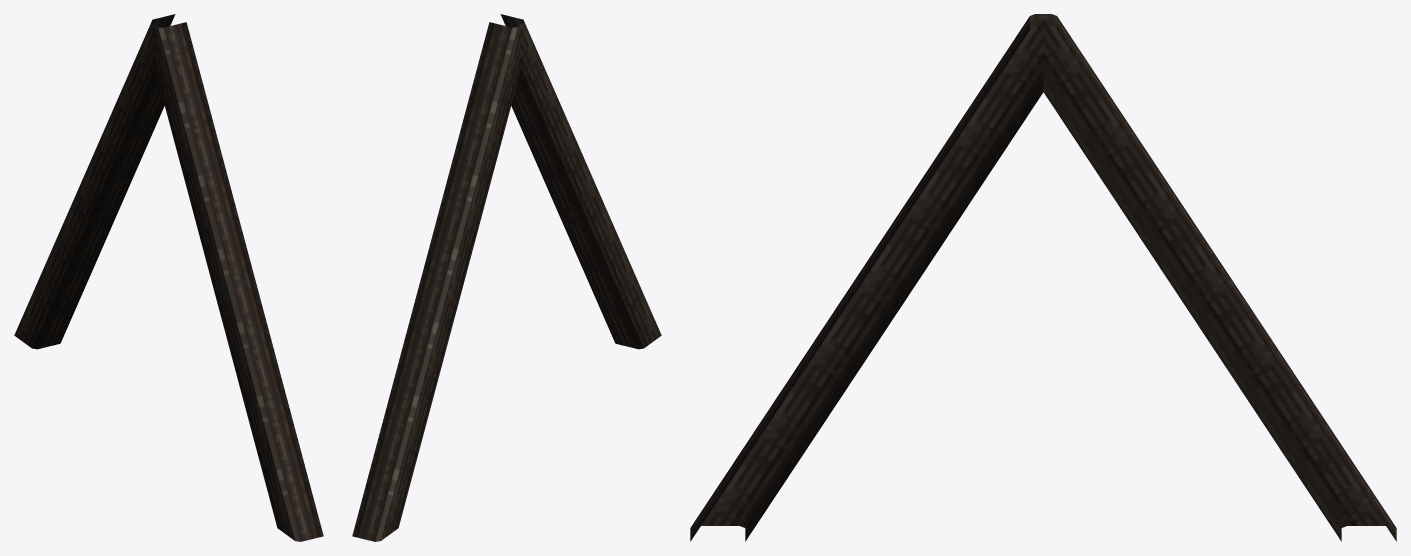
The model's file is EnvMdrMD_ClockTower_Pillar_Prop_A.FBX.
3 renders of one model, left to right at view 1: azimuth 30°, elevation 25°; view 2: azimuth 150°, elevation 25°; view 3: azimuth 270°, elevation 25°, orthographic. The views are drawn at different scales.
Parts seen in each view (by area): view 1: EnvMdrMD_ClockTower_Pillar_Prop_A; view 2: EnvMdrMD_ClockTower_Pillar_Prop_A; view 3: EnvMdrMD_ClockTower_Pillar_Prop_A.
Part boxes in pixels (x1,y1,x2,y2): EnvMdrMD_ClockTower_Pillar_Prop_A: (14,14,323,541); EnvMdrMD_ClockTower_Pillar_Prop_A: (352,14,661,541); EnvMdrMD_ClockTower_Pillar_Prop_A: (690,14,1396,541).
Size of the model in its own units: 40 by 600 by 750.
1 material, 1 textured.
